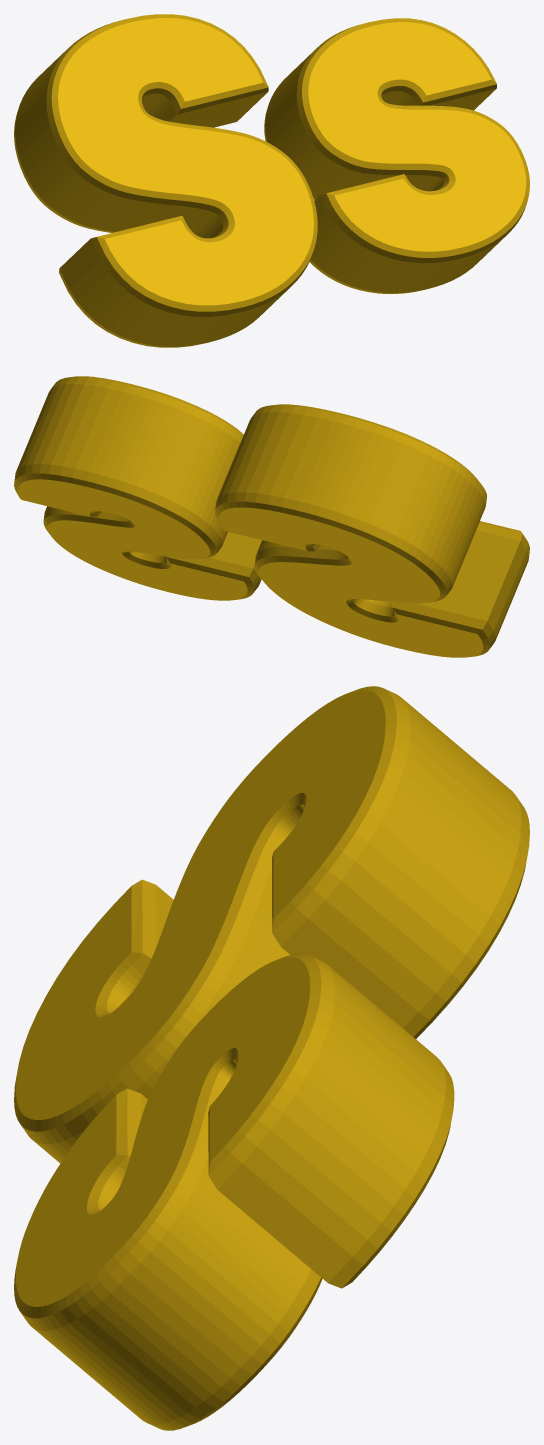
The picture shows the model from 3 angles, top to bottom: view 1: azimuth 30°, elevation 25°; view 2: azimuth 150°, elevation 25°; view 3: azimuth 270°, elevation 25°; orthographic projection. The views are drawn at different scales.
Visible parts, largest first — view 1: letter; view 2: letter; view 3: letter.
Part boxes in pixels (x1,y1,x2,y2): letter: (14,14,529,347); letter: (14,376,529,657); letter: (14,686,529,1430).
Size of the model in its own units: 1.6 by 0.9899 by 0.9547.
